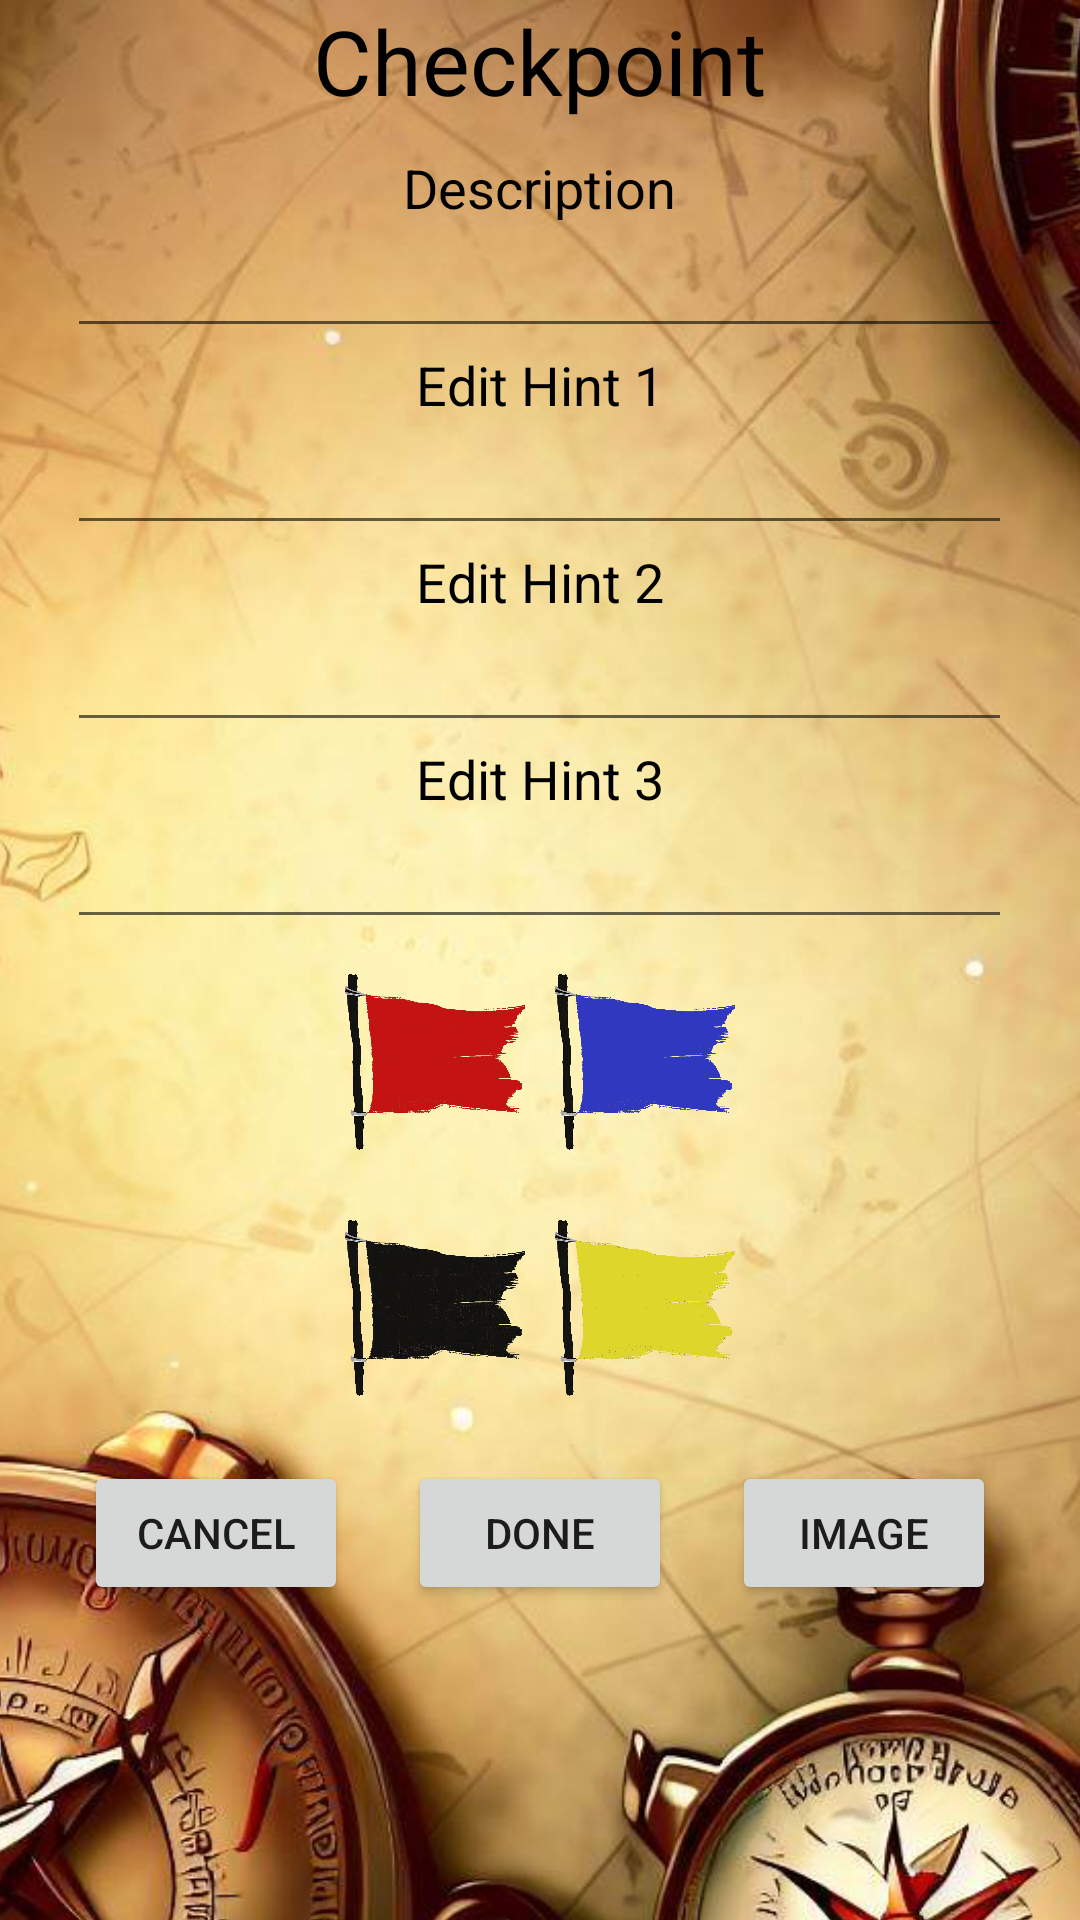

Icon click points for this 1080 × 1920 phone screenshot, format [x,y]:
blueflag: [645,1069]
flag: [435,1308]
redflag: [435,1062]
yellowflag: [645,1318]
